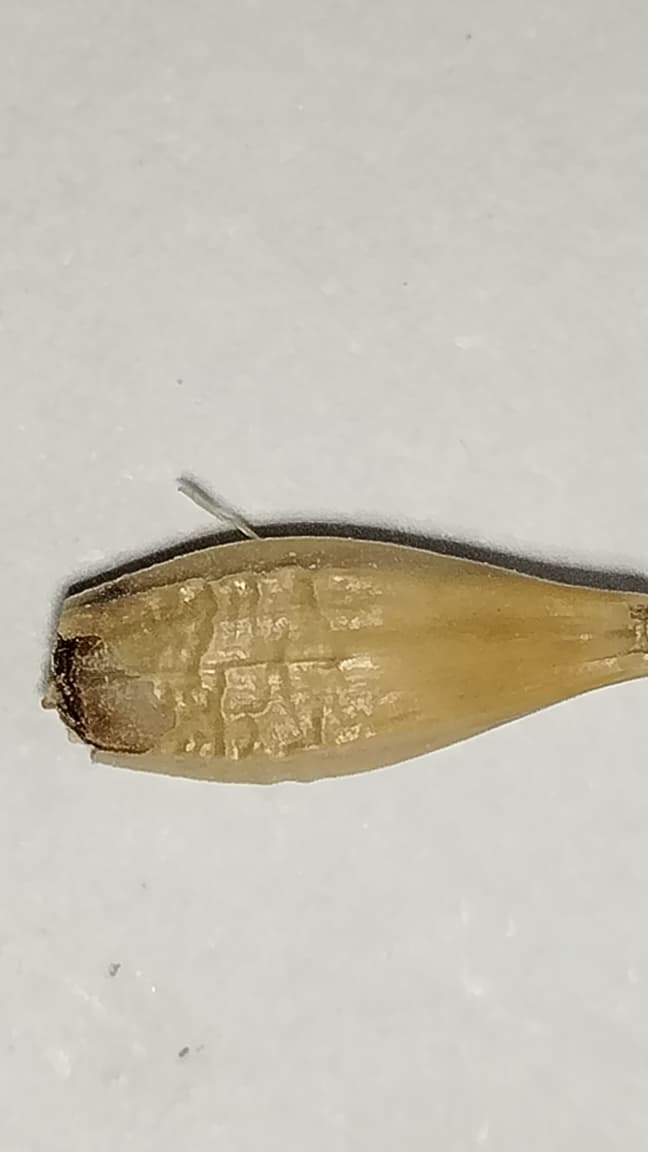healthy-70-60: (46, 537, 647, 782)
staindamage: (51, 631, 146, 750)
